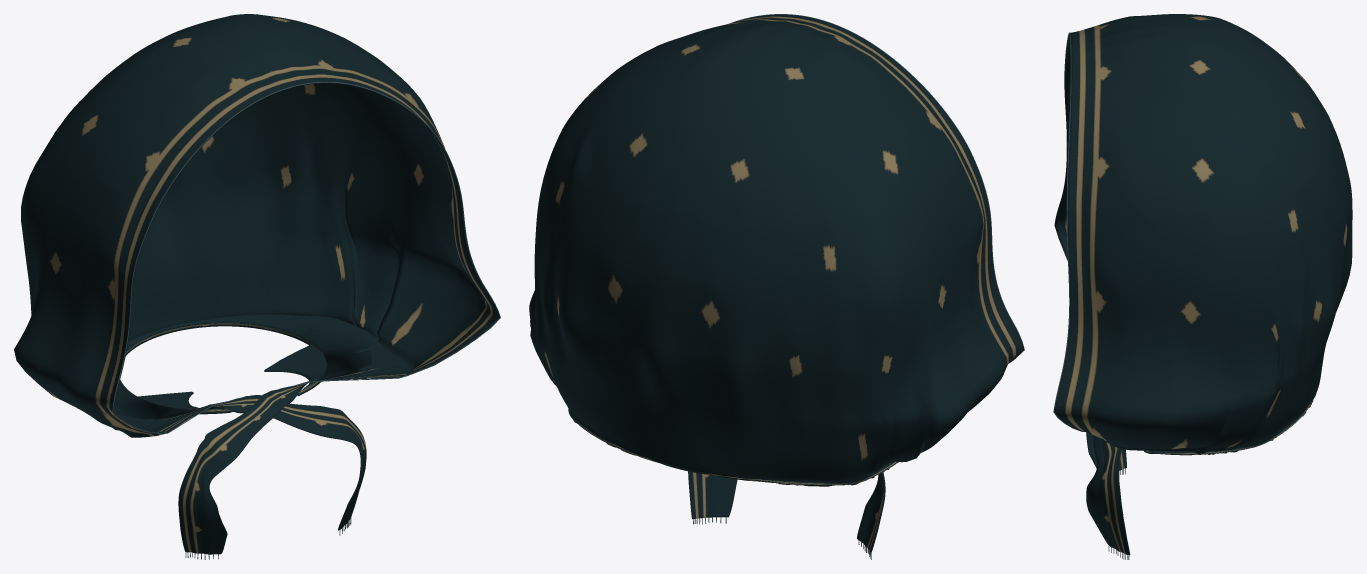
The model's file is Feminine-straight-tshirt-pashmina249-headgear.glb.
The picture shows the model from 3 angles, left to right: view 1: azimuth 30°, elevation 25°; view 2: azimuth 150°, elevation 25°; view 3: azimuth 270°, elevation 25°; orthographic projection. The views are drawn at different scales.
Visible parts, largest first — view 1: 226 headgear / Headwear / continuous woven pashmina239, 226 headgear / Headwear / face edge239; view 2: 226 headgear / Headwear / continuous woven pashmina239, 226 headgear / Headwear / face edge239; view 3: 226 headgear / Headwear / continuous woven pashmina239, 226 headgear / Headwear / face edge239.
Part boxes in pixels (x1,y1,x2,y2): 226 headgear / Headwear / continuous woven pashmina239: [14, 14, 500, 554]; 226 headgear / Headwear / face edge239: [112, 82, 500, 433]; 226 headgear / Headwear / continuous woven pashmina239: [529, 14, 1023, 553]; 226 headgear / Headwear / face edge239: [728, 14, 1024, 363]; 226 headgear / Headwear / continuous woven pashmina239: [1054, 14, 1352, 555]; 226 headgear / Headwear / face edge239: [1053, 32, 1084, 431].
Size of the model in its own units: 1.25 by 1.41 by 0.7796.
Materials: 3 (1 with a texture image).
